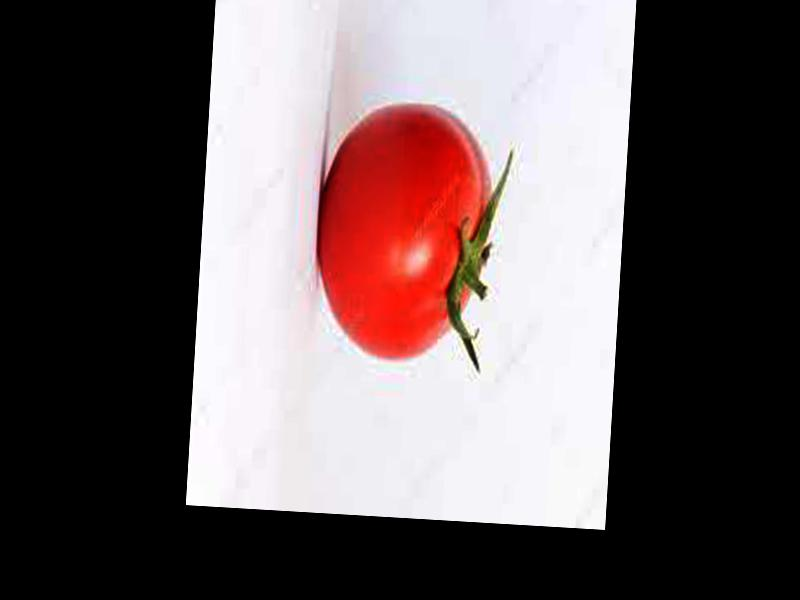Tomato: (309, 95, 493, 363)
